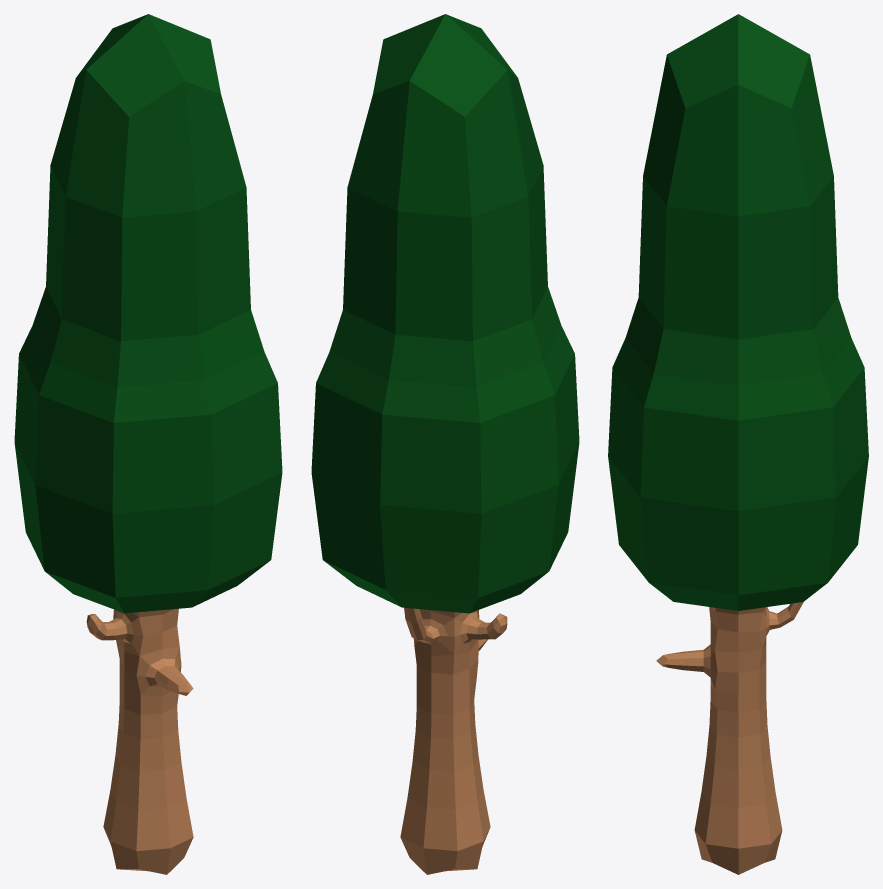
The model's file is Tree3.fbx.
The picture shows the model from 3 angles, left to right: view 1: azimuth 30°, elevation 25°; view 2: azimuth 150°, elevation 25°; view 3: azimuth 270°, elevation 25°; orthographic projection.
Parts seen in each view (by area): view 1: Cube; view 2: Cube; view 3: Cube.
Boxes of the visible parts, bbox=[...] form: Cube: bbox=[14, 14, 282, 874]; Cube: bbox=[311, 14, 579, 874]; Cube: bbox=[608, 14, 868, 874].
Size of the model in its own units: 54.46 by 197 by 54.46.
